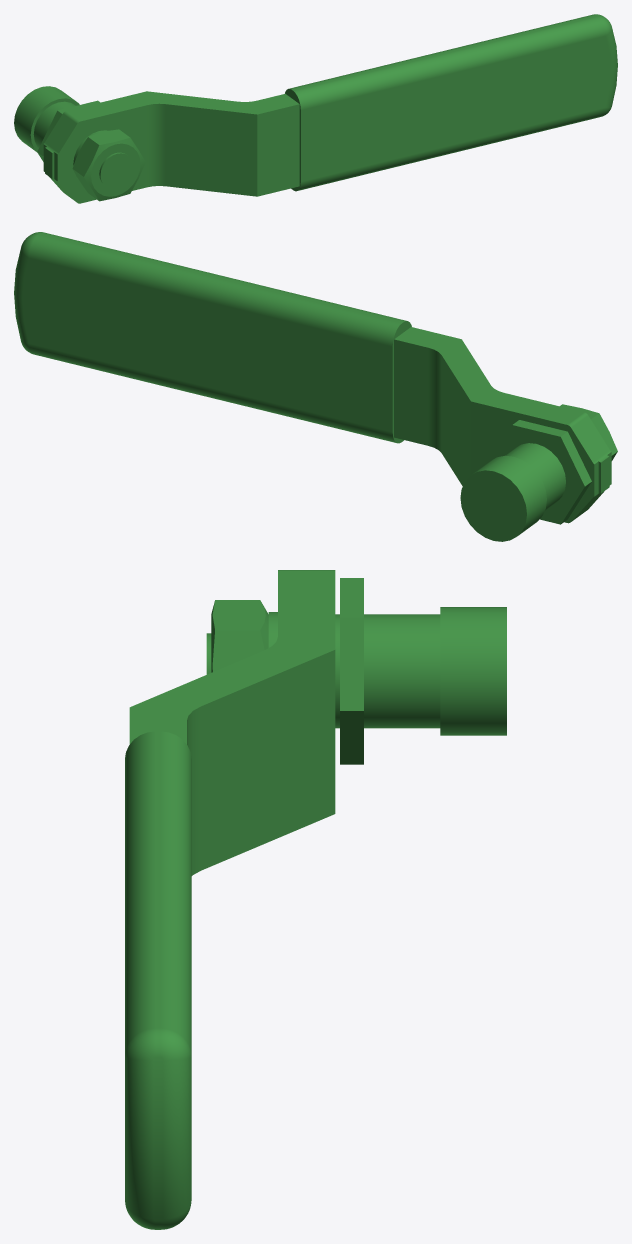
Rendered from ball_valve_360_lever.obj.
3 views of the same model, one above another, from view 1: azimuth 30°, elevation 25°; view 2: azimuth 150°, elevation 25°; view 3: azimuth 270°, elevation 25° (orthographic). The views are drawn at different scales.
Visible parts, largest first — view 1: ball_valve_360_lever; view 2: ball_valve_360_lever; view 3: ball_valve_360_lever.
Boxes of the visible parts, left/top/right/bottom form: ball_valve_360_lever: left=14, top=14, right=617, bottom=203; ball_valve_360_lever: left=14, top=232, right=617, bottom=541; ball_valve_360_lever: left=125, top=570, right=506, bottom=1229.
Size of the model in its own units: 12.8 by 2.3 by 4.01.
